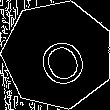O_NW: (27, 23, 88, 87)
